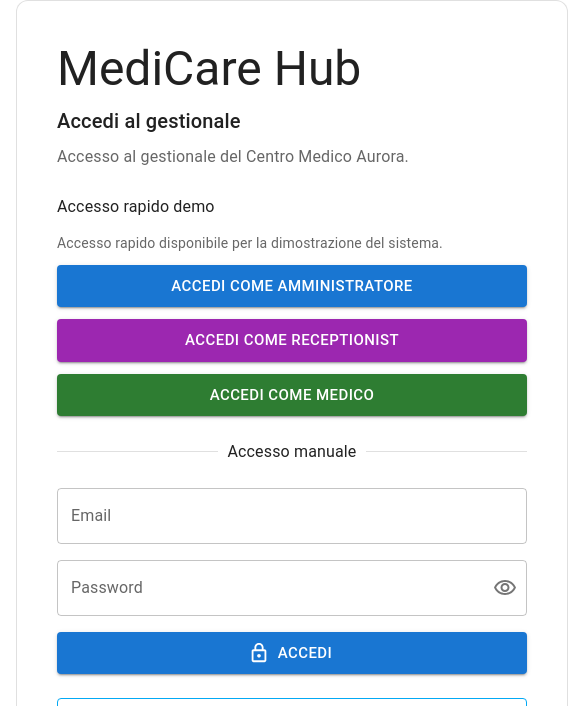
it: frontend auth › shows login errors from the normal auth flow for demo access
The width and height of the screenshot is (585, 706).
Click the button "Accedi come Receptionist" at (292, 340), box left=57, top=319, right=527, bottom=362
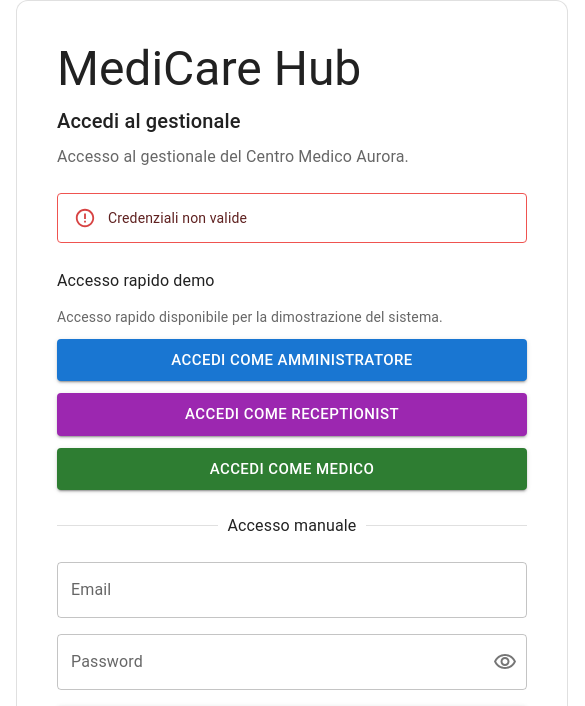
Expected: the button "Accedi come Receptionist" is enabled, left=57, top=393, right=527, bottom=436
Result: the text "Credenziali non valide" is shown at left=108, top=210, right=247, bottom=226
